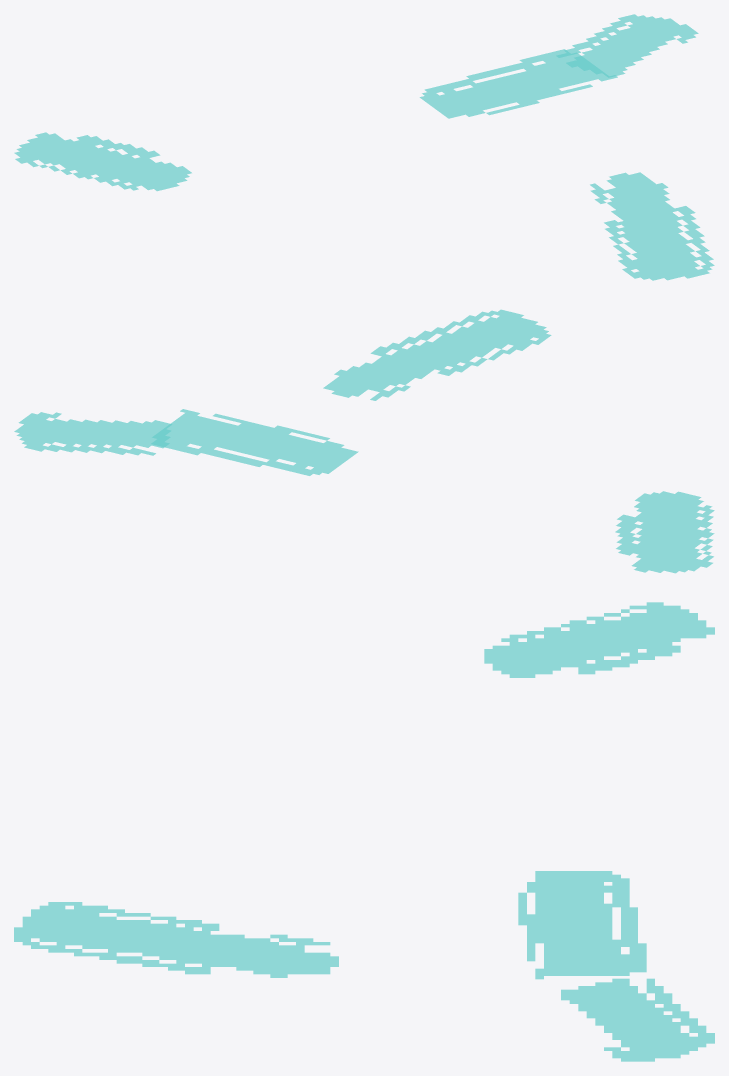
The model's file is run_water.glb.
The picture shows the model from 3 angles, top to bottom: view 1: azimuth 30°, elevation 25°; view 2: azimuth 150°, elevation 25°; view 3: azimuth 270°, elevation 25°; orthographic projection. The views are drawn at different scales.
Visible parts, largest first — view 1: run_water; view 2: run_water; view 3: run_water.
Part boxes in pixels (box(x1,y1,x2,y2)): run_water: box(14, 14, 714, 280); run_water: box(14, 309, 714, 573); run_water: box(14, 602, 714, 1061).
Bounding box in the file's own units: 236 × 14 × 164.
